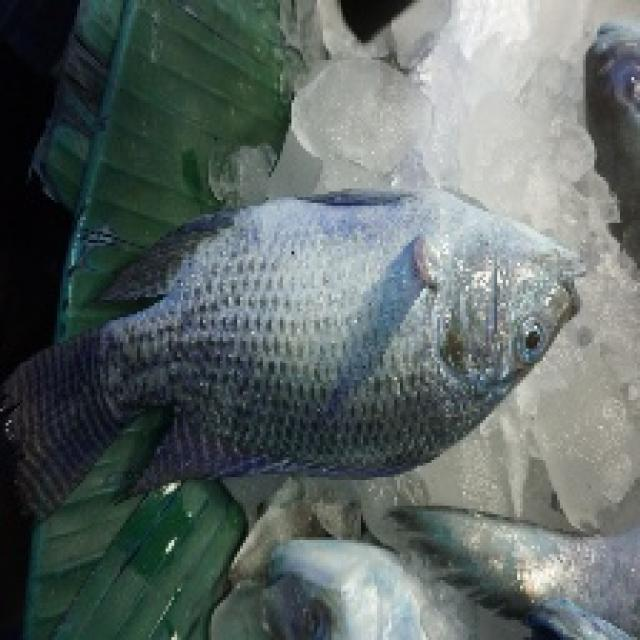Fresh: (54, 170, 601, 468)
